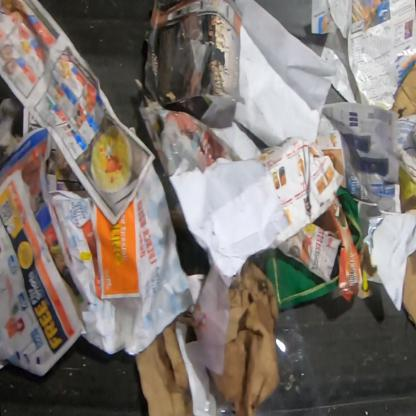cardboard: (193, 258, 280, 414), (136, 320, 192, 416), (392, 62, 416, 121), (401, 250, 416, 328)
rigid_plastic: (254, 307, 327, 416)
soft_plastic: (162, 118, 207, 177), (114, 298, 143, 353), (399, 164, 415, 206), (374, 102, 388, 110)
